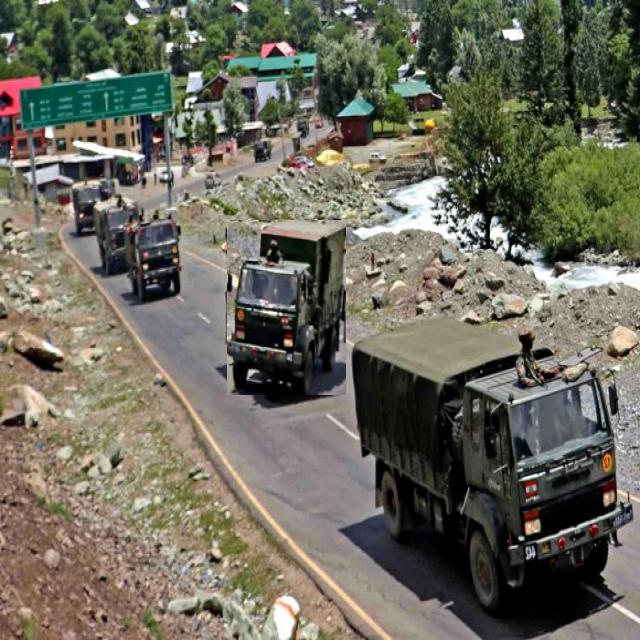truck: (352, 321, 632, 608), (227, 221, 345, 395)
